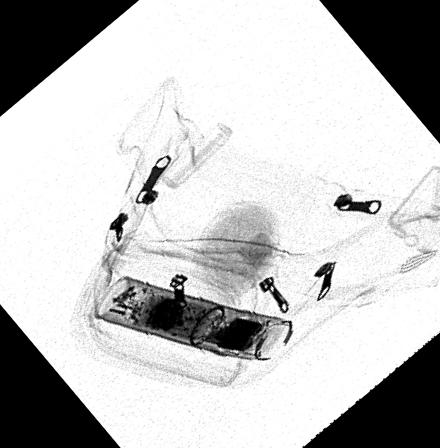Baton: (91, 275, 296, 362)
